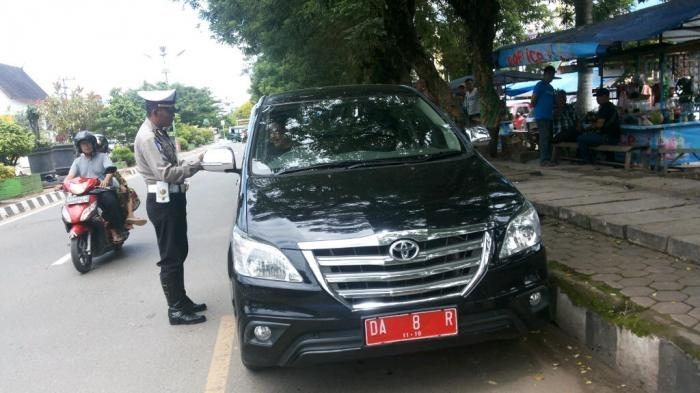plate: (367, 307, 456, 347)
